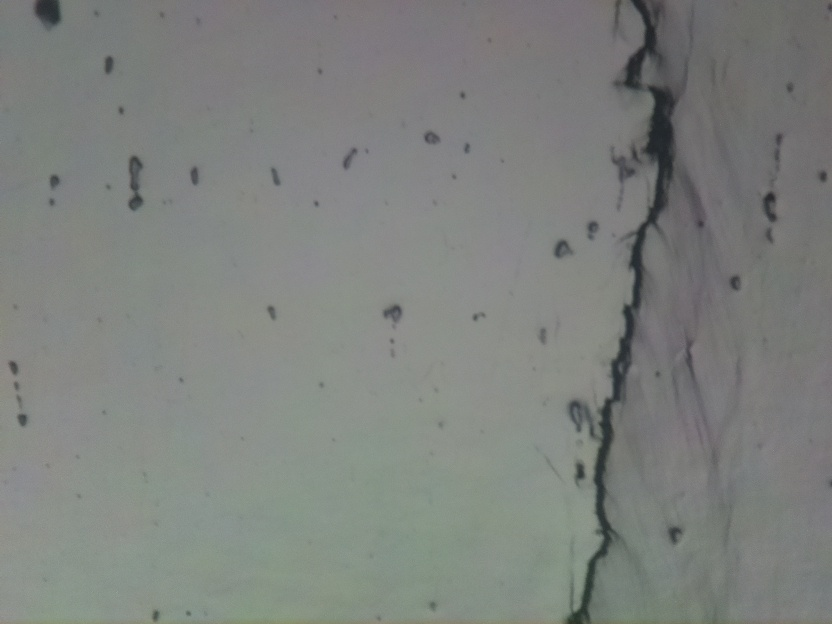crack: (548, 0, 679, 624)
